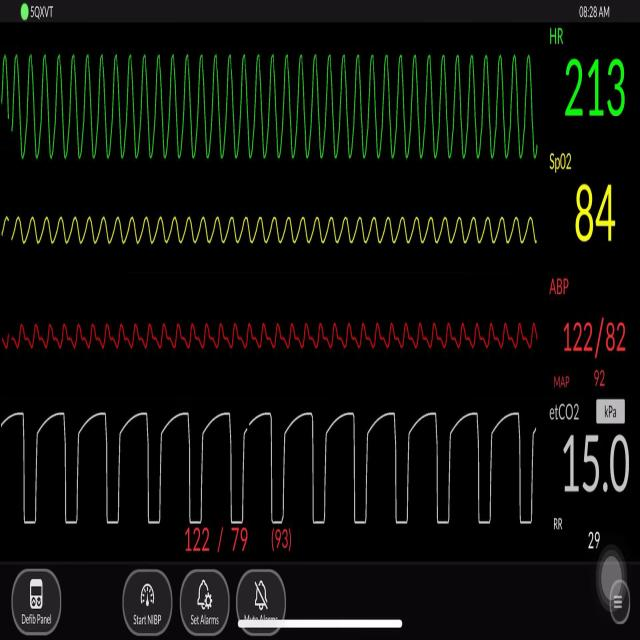danger: (16, 45, 541, 164)
